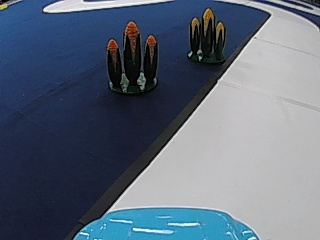corn: (104, 23, 162, 94), (186, 5, 228, 62)
